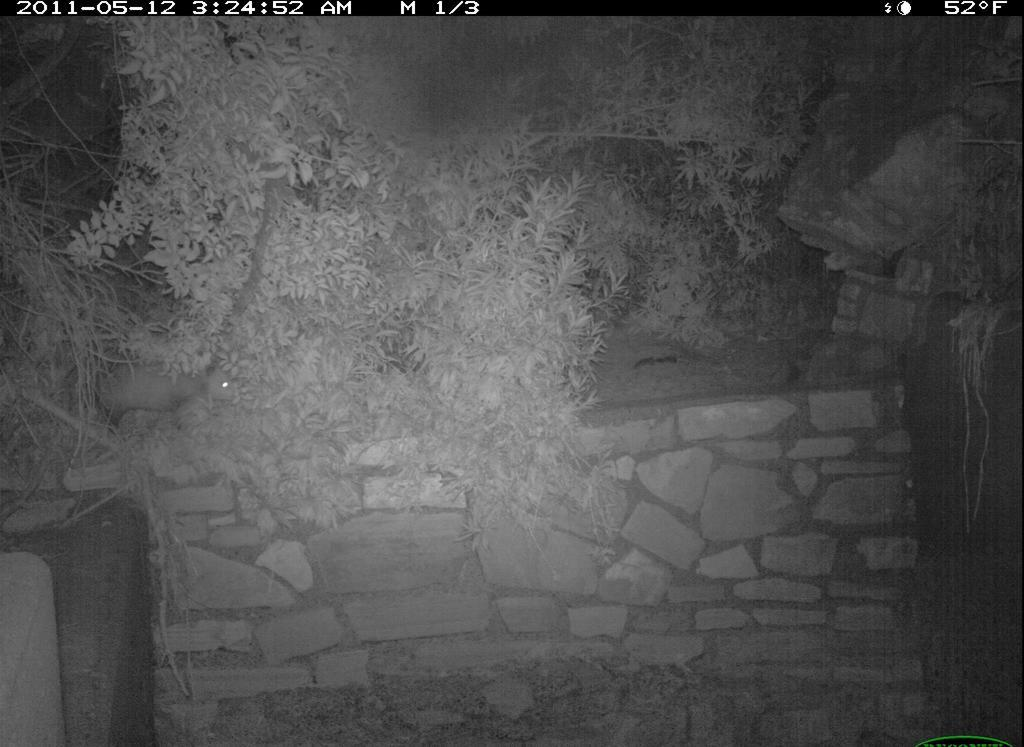opossum: (84, 353, 249, 437)
